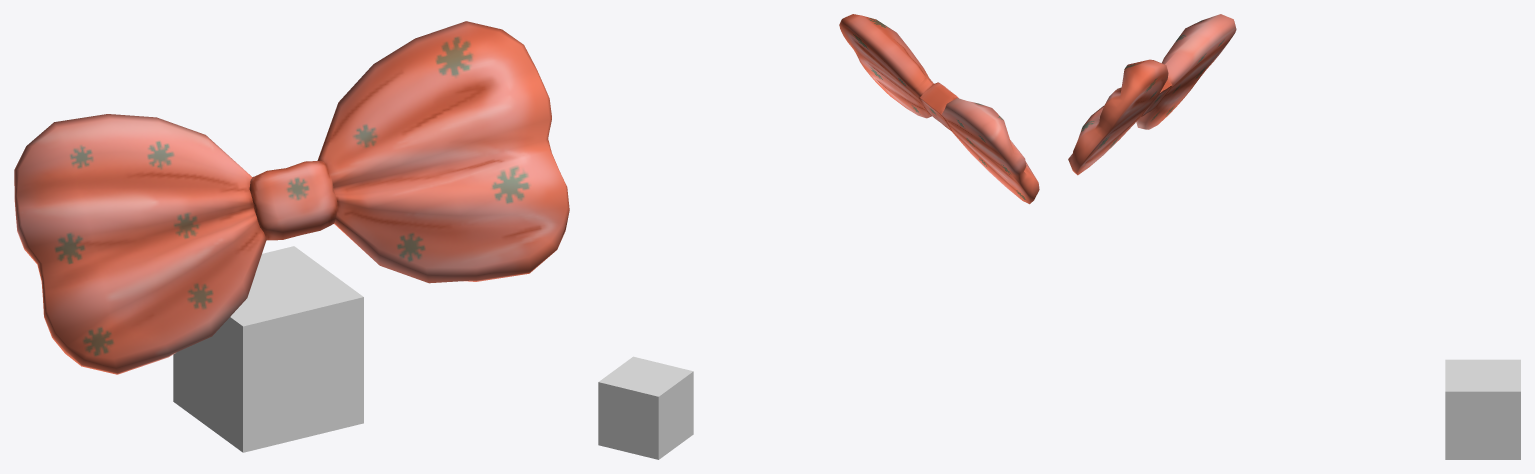
File: ribbon2_girl.FBX
3 views of the same model, side by side, from view 1: azimuth 30°, elevation 25°; view 2: azimuth 150°, elevation 25°; view 3: azimuth 270°, elevation 25° (orthographic). The views are drawn at different scales.
Visible parts, largest first — view 1: girl_ribbon16, faceSpawn; view 2: girl_ribbon16, faceSpawn; view 3: girl_ribbon16, faceSpawn.
Part boxes in pixels (box(x1,y1,x2,y2)): girl_ribbon16: box(14, 21, 569, 374); faceSpawn: box(173, 246, 363, 452); girl_ribbon16: box(839, 14, 1039, 204); faceSpawn: box(598, 356, 693, 459); girl_ribbon16: box(1068, 14, 1236, 175); faceSpawn: box(1445, 359, 1520, 459).
Bounding box in the file's own units: 23.35 × 25.54 × 30.
